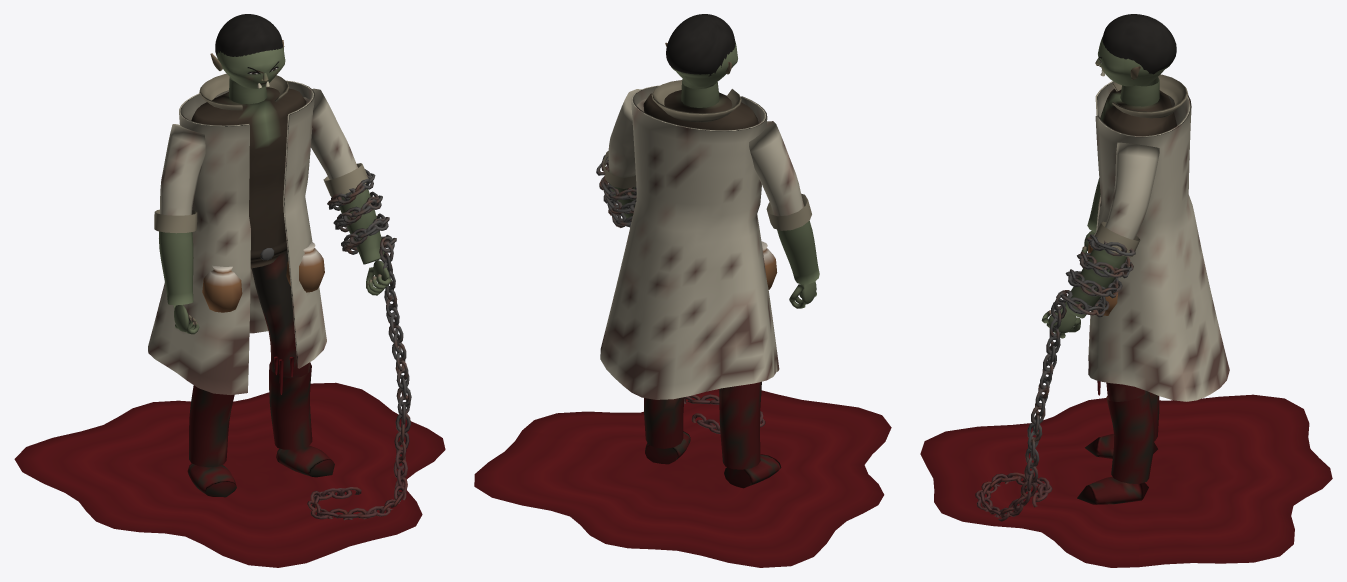
Rendered from kragen.glb.
The picture shows the model from 3 angles, left to right: view 1: azimuth 30°, elevation 25°; view 2: azimuth 150°, elevation 25°; view 3: azimuth 270°, elevation 25°; orthographic projection.
Parts seen in each view (by area): view 1: kragen-body, kragen-metal, kragen-face; view 2: kragen-body, kragen-metal, kragen-face; view 3: kragen-metal, kragen-body, kragen-face.
Boxes of the visible parts, x1,y1,x2,y2 form: kragen-body: (148, 14, 391, 497); kragen-metal: (14, 169, 445, 567); kragen-face: (216, 46, 285, 89); kragen-body: (600, 14, 819, 488); kragen-metal: (474, 155, 891, 567); kragen-face: (671, 43, 737, 87); kragen-metal: (920, 234, 1332, 567); kragen-body: (1041, 14, 1229, 504); kragen-face: (1098, 37, 1170, 86).
Size of the model in its own units: 0.9446 by 1.19 by 0.9499.
3 materials, 1 textured.
